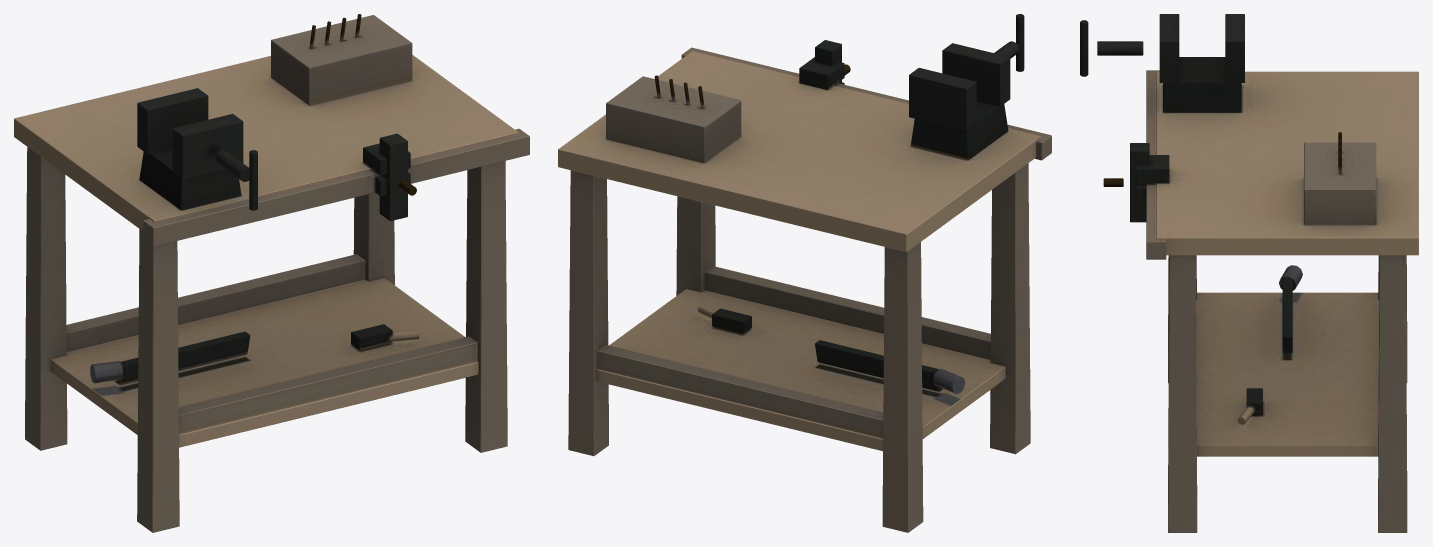
The model's file is DD_workbench1_L3.glb.
The picture shows the model from 3 angles, left to right: view 1: azimuth 30°, elevation 25°; view 2: azimuth 150°, elevation 25°; view 3: azimuth 270°, elevation 25°; orthographic projection. The views are drawn at different scales.
Visible parts, largest first — view 1: DD_workbench1_L3; view 2: DD_workbench1_L3; view 3: DD_workbench1_L3.
Part boxes in pixels (x1,y1,x2,y2): DD_workbench1_L3: (14,14,529,532); DD_workbench1_L3: (558,14,1051,532); DD_workbench1_L3: (1080,14,1418,532).
Bounding box in the file's own units: 1.24 × 1.26 × 1.03.
Materials: 1 (1 with a texture image).
